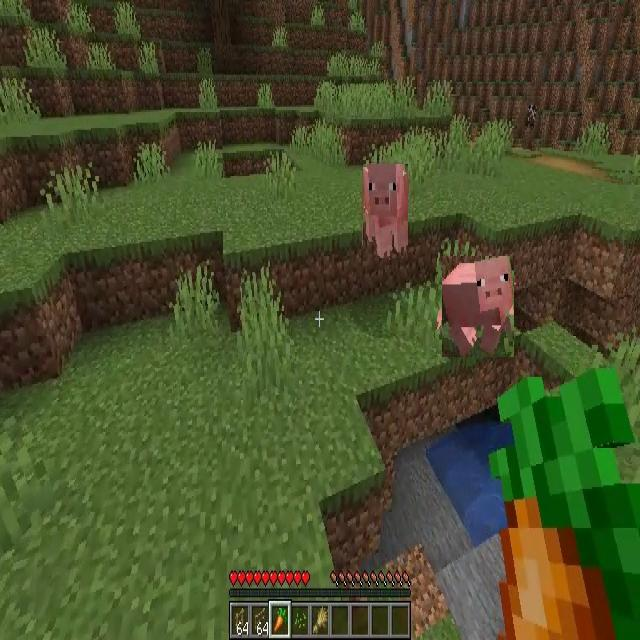pig: (442, 256, 514, 357), (363, 164, 408, 258)
